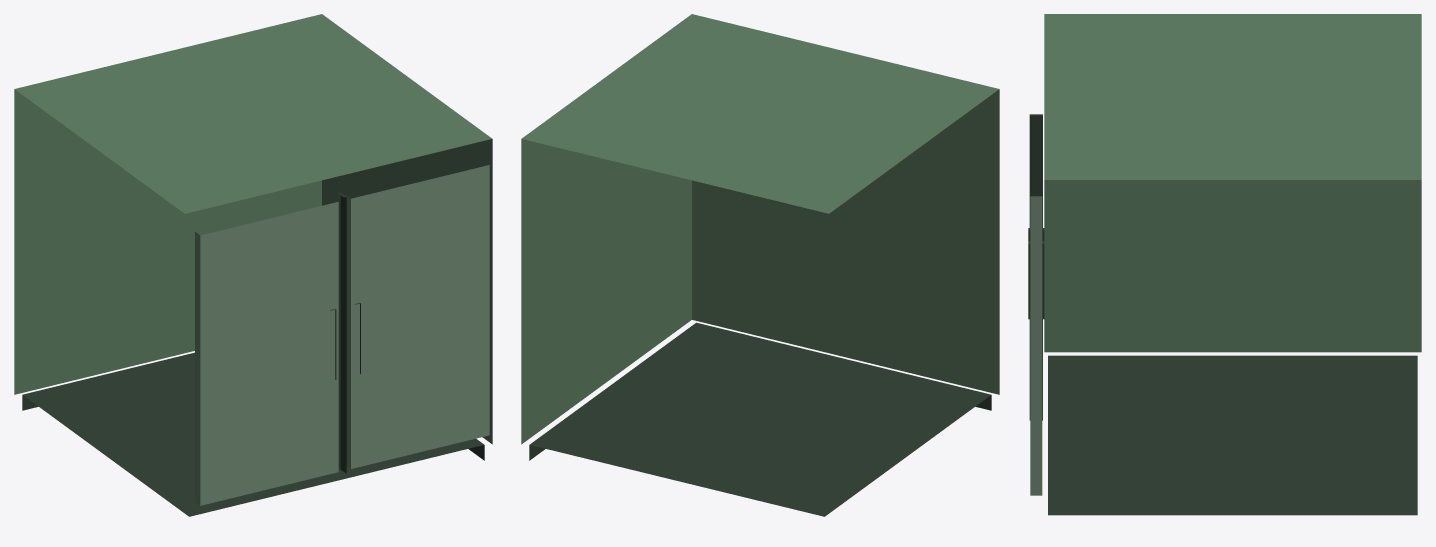
The model's file is Wardrobe-green.glb.
3 renders of one model, left to right at view 1: azimuth 30°, elevation 25°; view 2: azimuth 150°, elevation 25°; view 3: azimuth 270°, elevation 25°, orthographic. The views are drawn at different scales.
Parts seen in each view (by area): view 1: Wardrobe; view 2: Wardrobe; view 3: Wardrobe.
Part boxes in pixels (x1,y1,x2,y2): Wardrobe: [14, 14, 492, 516]; Wardrobe: [521, 14, 999, 516]; Wardrobe: [1028, 14, 1421, 515].
Size of the model in its own units: 1 by 1 by 1.
